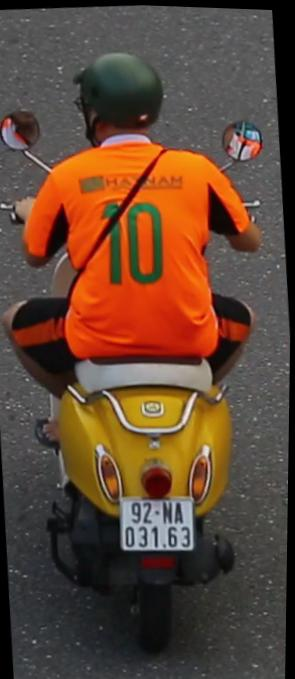LP: (118, 488, 199, 560)
helmet: (71, 39, 172, 162)
